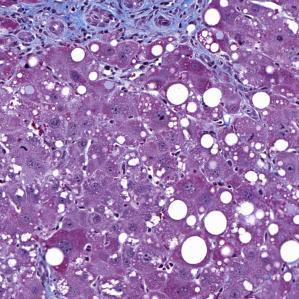fibrosis: (29, 4, 197, 47)
